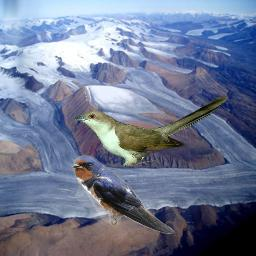Cuckoo: (72, 95, 227, 166)
Swallow: (71, 155, 175, 234)
